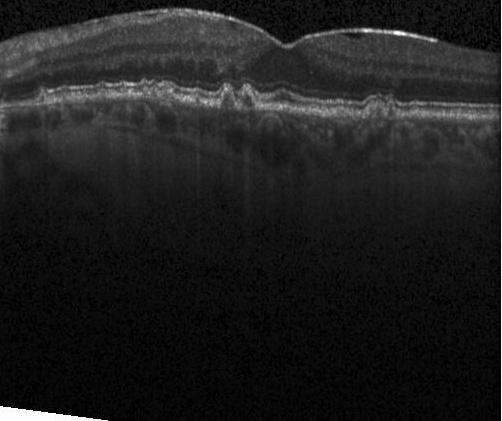intraretinal_cyst: (338, 32, 366, 41), (140, 12, 159, 19)
retinal_drusen: (221, 91, 234, 108), (243, 94, 254, 108), (159, 86, 173, 97), (369, 107, 381, 117), (99, 89, 107, 98), (151, 87, 157, 98), (387, 104, 392, 117), (61, 92, 67, 101), (143, 86, 148, 95), (119, 87, 126, 93), (41, 94, 45, 102), (195, 97, 200, 103)
